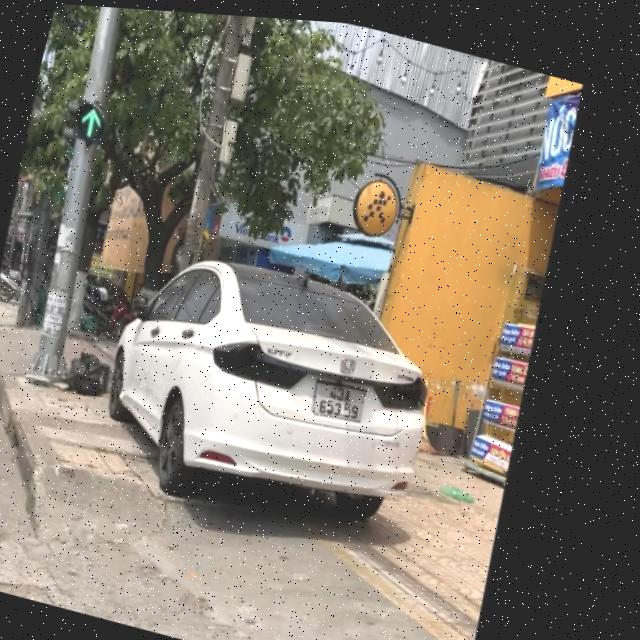car: (73, 223, 459, 565)
plate: (301, 368, 377, 432)
